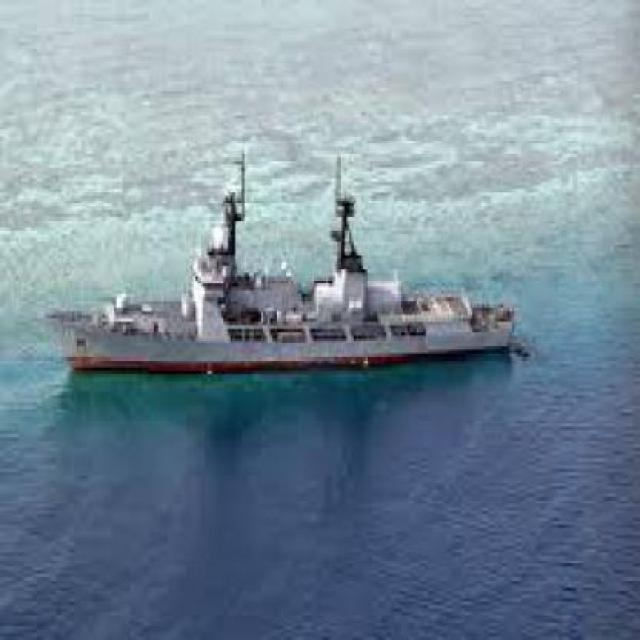warship2: (47, 169, 587, 404)
